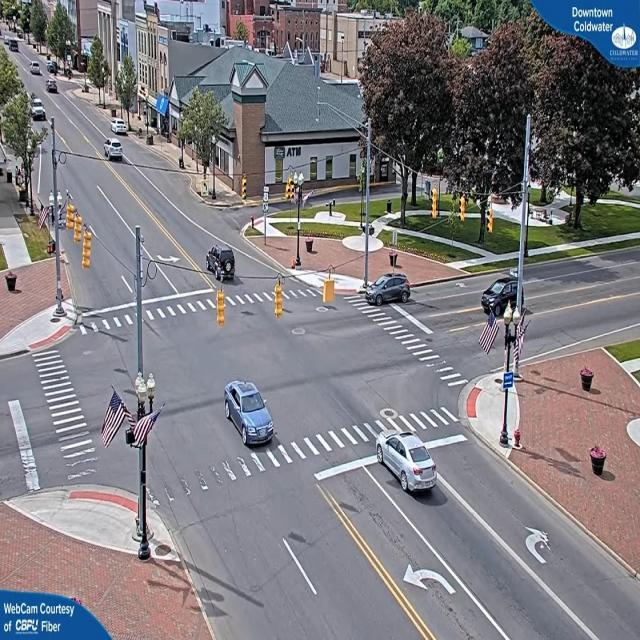car: (224, 379, 278, 448), (378, 433, 437, 496), (478, 282, 524, 312), (369, 273, 412, 304), (208, 245, 239, 283), (105, 142, 126, 163), (30, 98, 47, 122), (112, 120, 130, 136), (47, 82, 60, 95), (30, 62, 41, 74), (10, 43, 20, 53)
